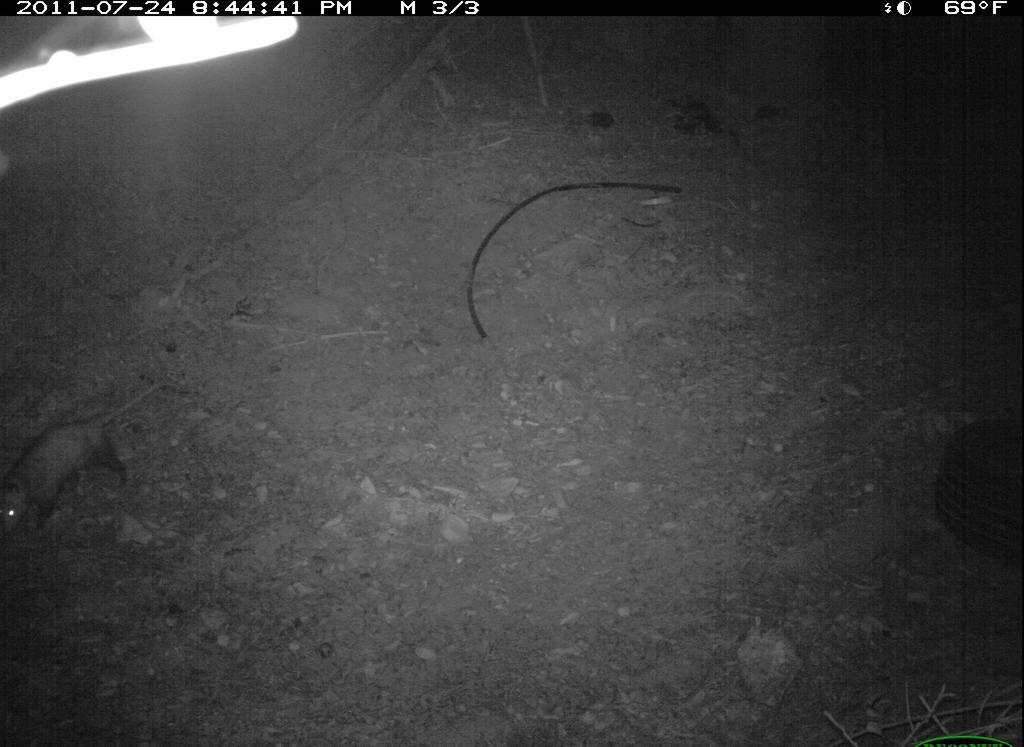opossum: (1, 372, 179, 547)
